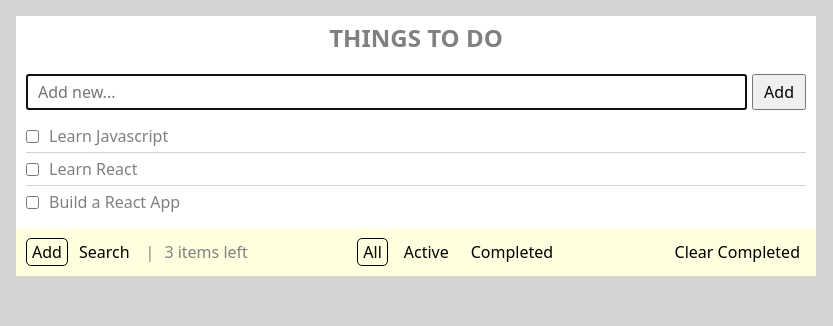
Scenario: App › adds new todo
Type "New Todo" into the field with placeholder "Add new..." at (387, 92), box [26,74,747,110]
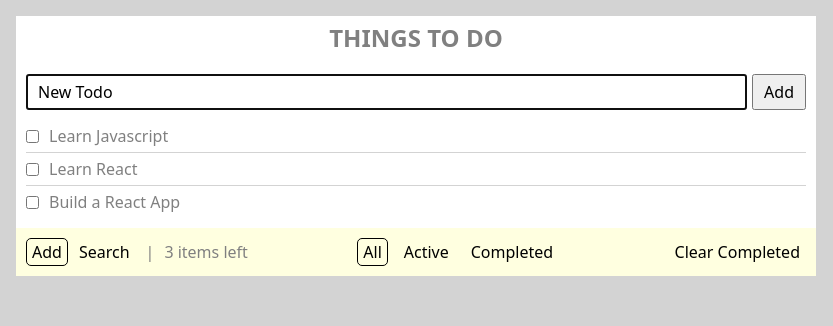
Click the button "Add" at (779, 92), box [752,74,806,110]
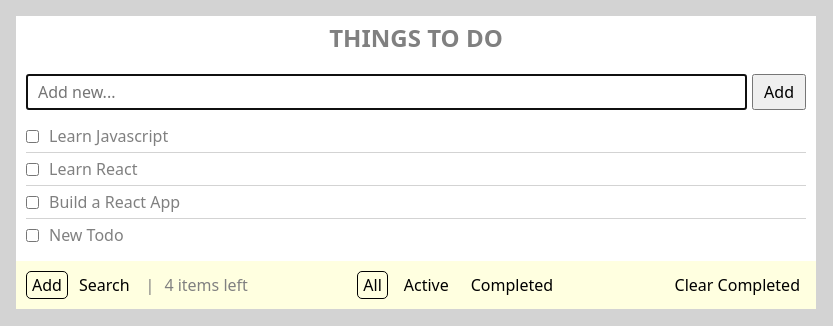
Result: the text "New Todo" is shown at [49,224,124,246]
